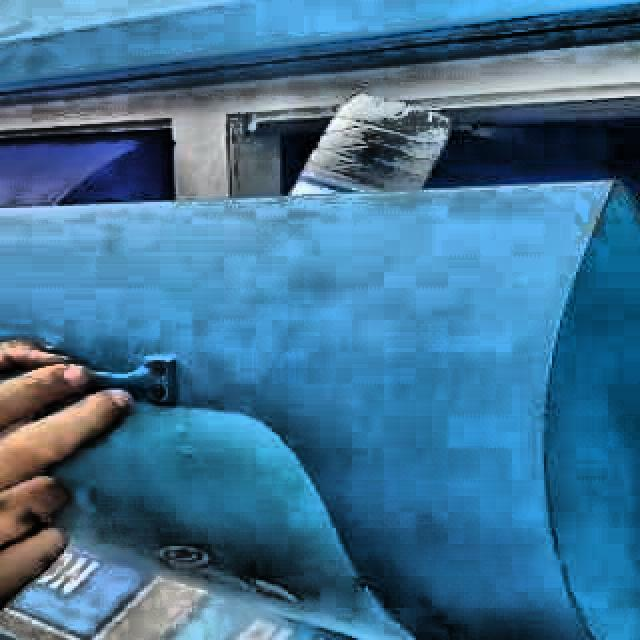plastic: (291, 94, 451, 196)
